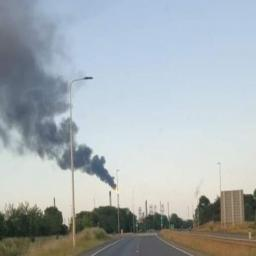fire: (114, 187, 118, 194)
smoke: (0, 0, 116, 189)
